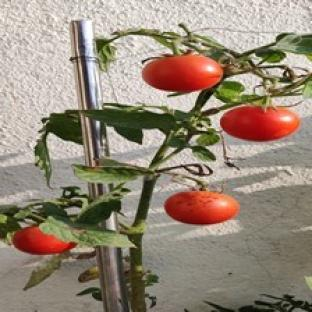Tomato: (221, 106, 300, 142), (143, 55, 222, 91), (165, 191, 239, 225), (12, 226, 76, 254)
